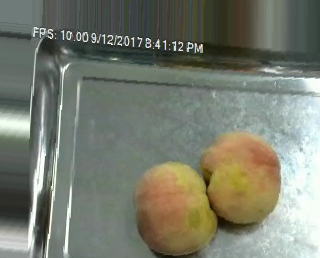Peach: (134, 160, 216, 257), (203, 131, 281, 226)
